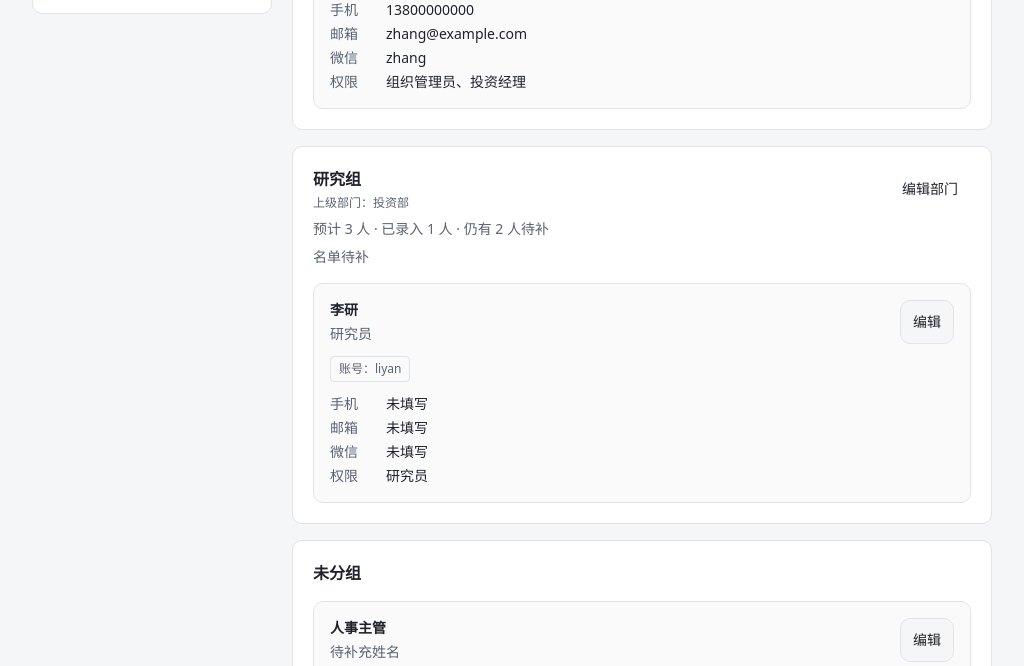
Test: organization workspace › keeps edits after conflict and never retries an old version silently
(page scrolled)
Click the button with aria-label "编辑李研" at (927, 322), box [900,300,954,344]
(page scrolled)
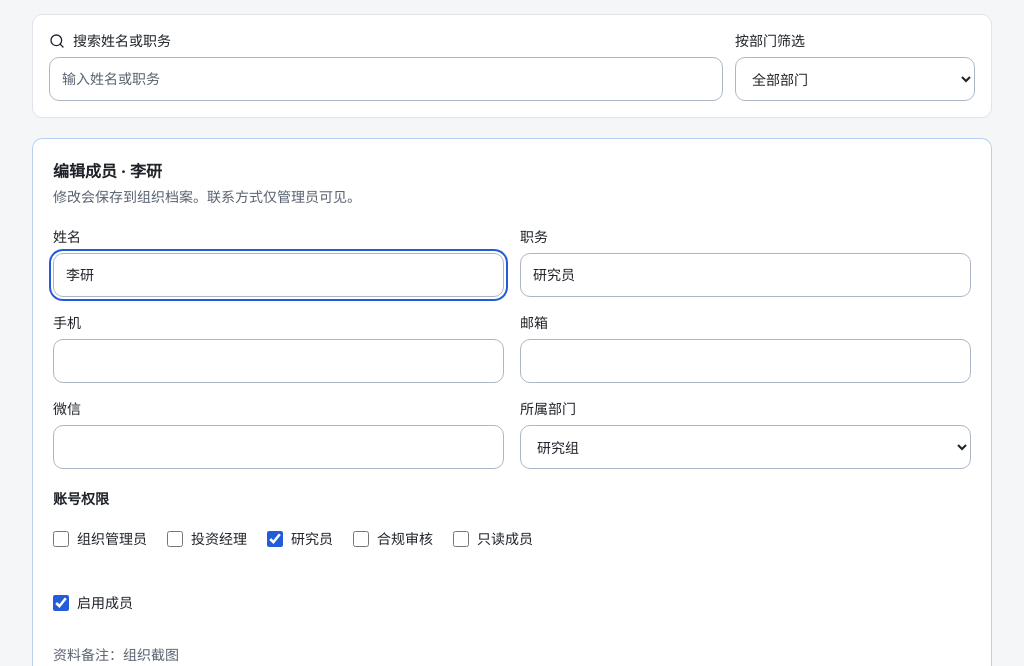
Replace the text in the field labelled "职务" with "我的修改" at (746, 275), box [520,253,971,297]
(page scrolled)
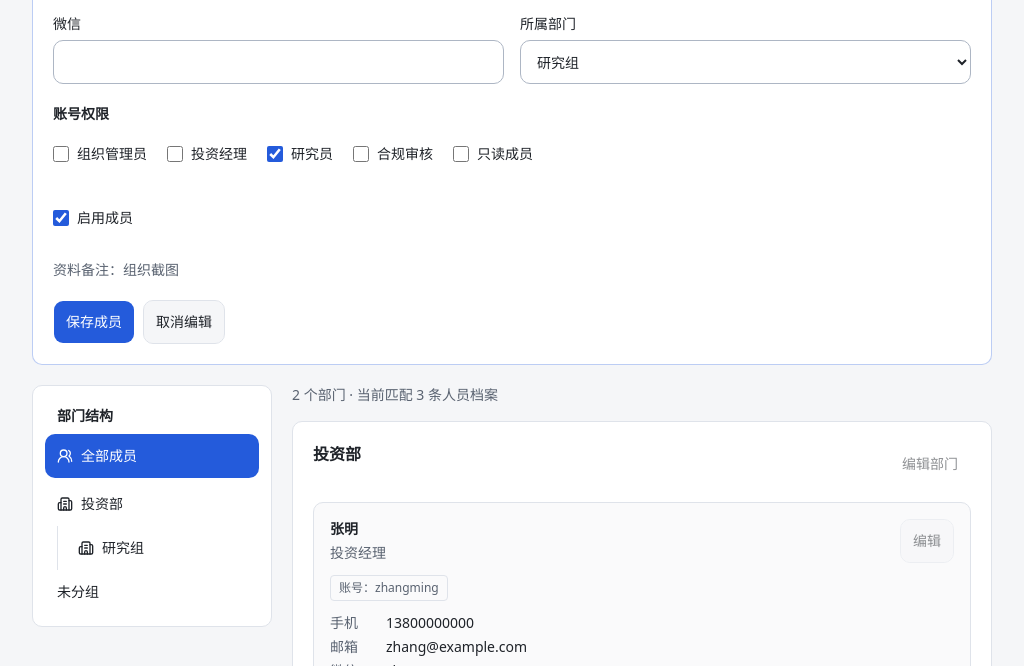
Click the button "保存成员" at (94, 322), box [53,300,135,344]
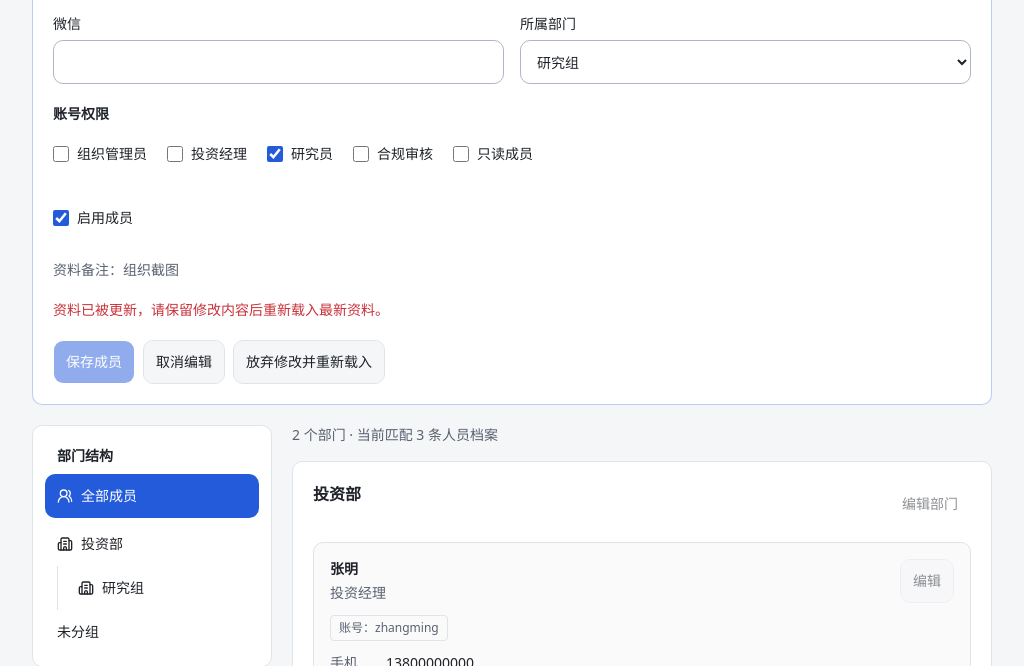
Expected: the button "保存成员" is disabled, [53,340,135,384]
